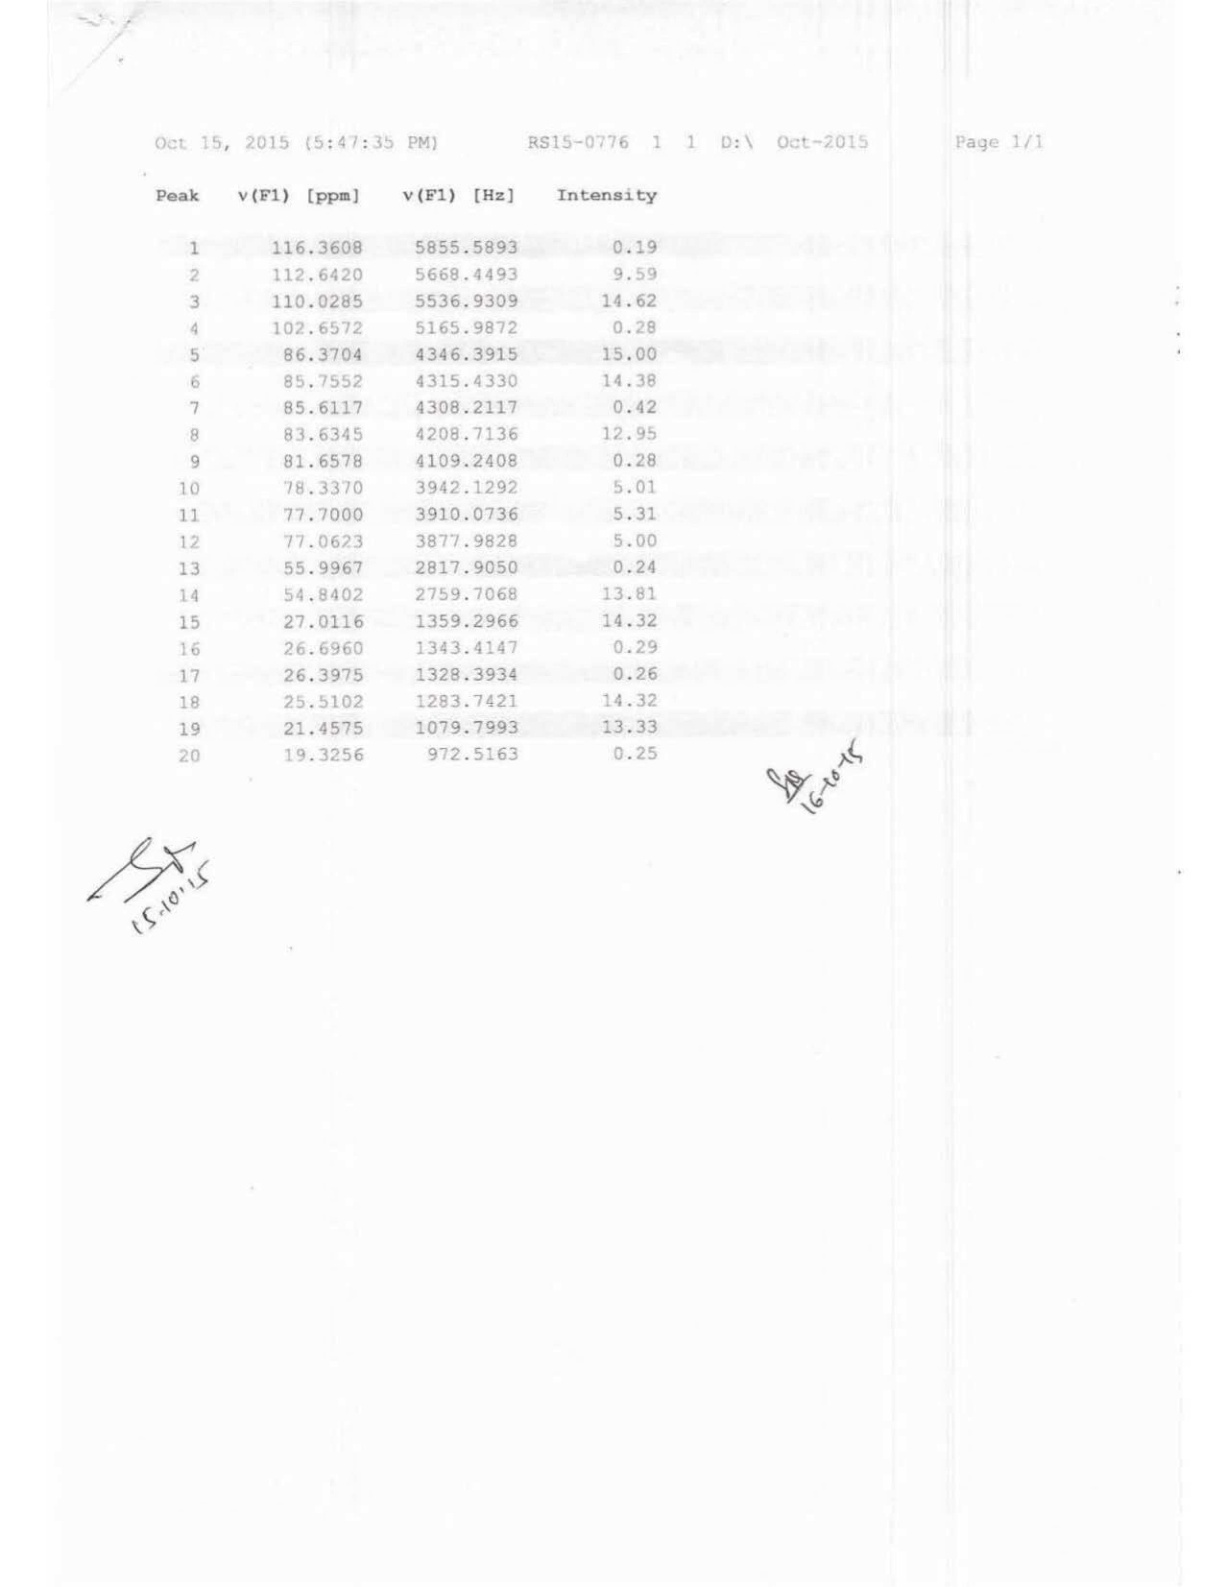nolines: (152, 184, 663, 768)
